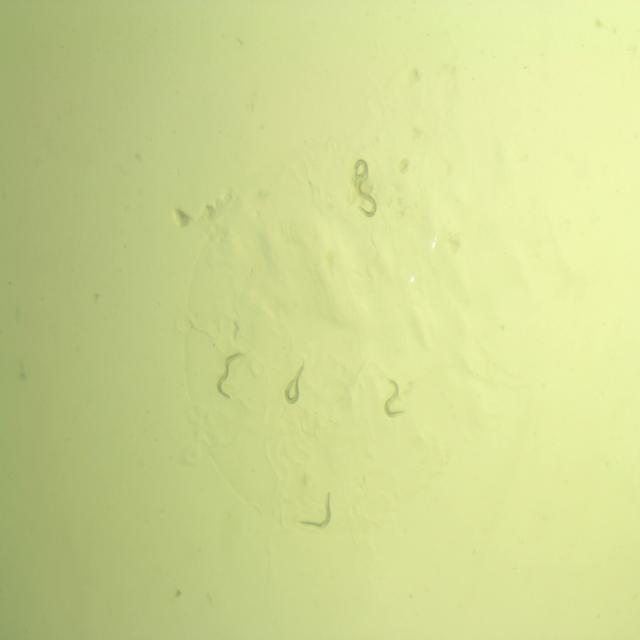worm: (294, 486, 334, 531), (216, 346, 247, 404), (379, 376, 409, 424), (282, 358, 307, 408), (355, 170, 378, 223), (350, 156, 370, 190)
